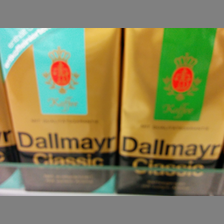coffee: (1, 28, 120, 194), (120, 28, 224, 193)
